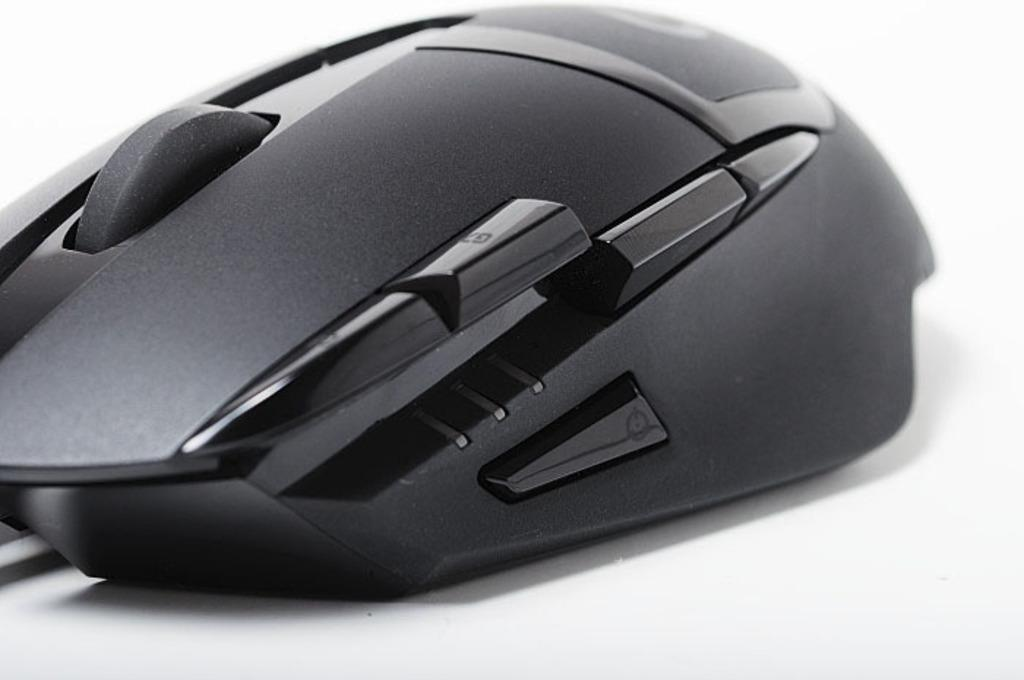Computer-mouse: (0, 0, 935, 597)
